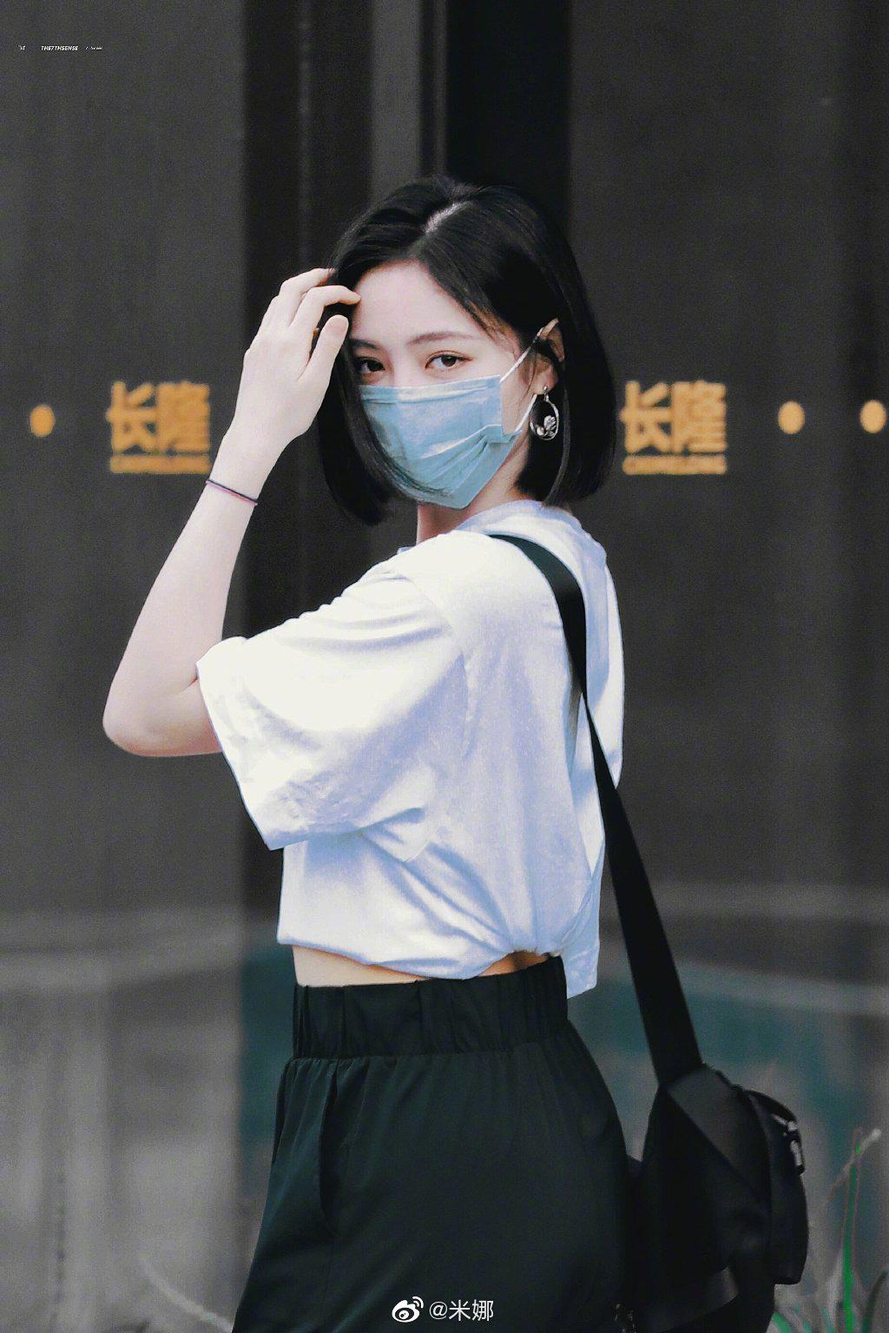OK: (348, 296, 510, 509)
